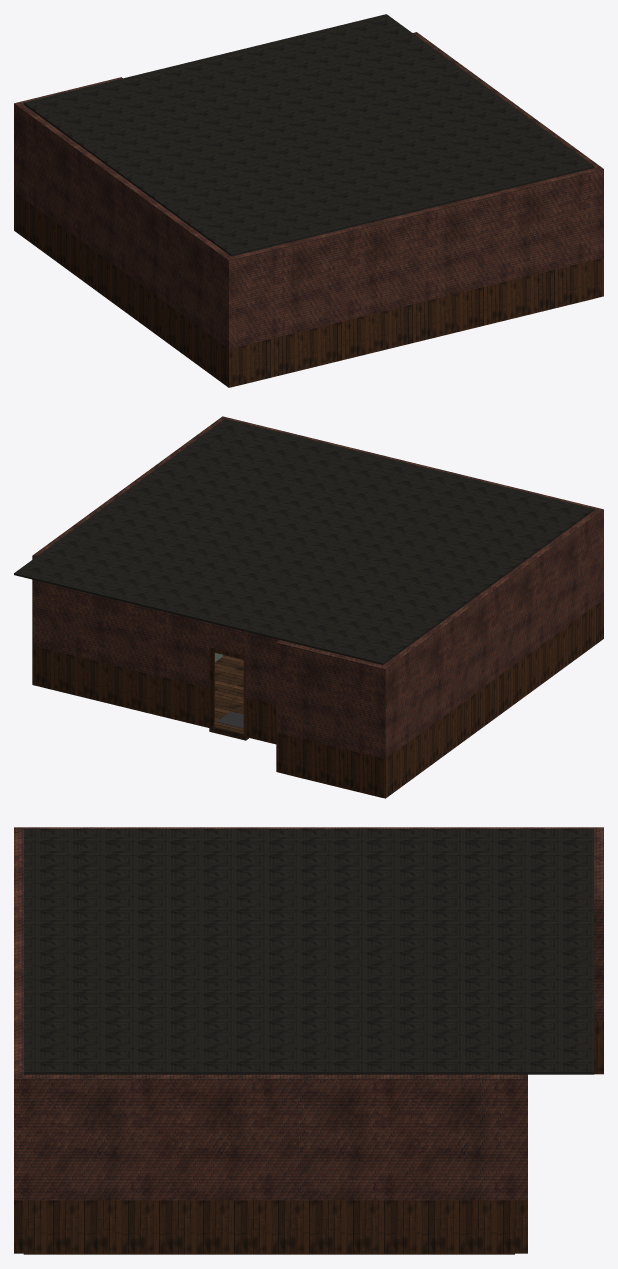
The model's file is BarInterior.glb.
3 renders of one model, top to bottom at view 1: azimuth 30°, elevation 25°; view 2: azimuth 150°, elevation 25°; view 3: azimuth 270°, elevation 25°, orthographic. The views are drawn at different scales.
Parts seen in each view (by area): view 1: Interior_Solid; view 2: Interior_Solid; view 3: Interior_Solid.
Part boxes in pixels (x1=…): Interior_Solid: x1=14, y1=14, x2=603, y2=387; Interior_Solid: x1=14, y1=416, x2=603, y2=798; Interior_Solid: x1=14, y1=827, x2=603, y2=1254.
Size of the model in its own units: 11.1 by 3.75 by 11.01.
Materials: 60 (23 with a texture image).
